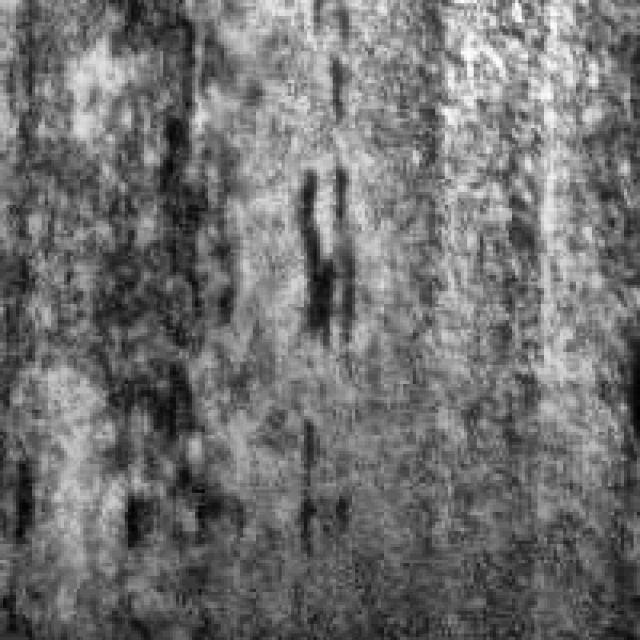Patches: (74, 12, 230, 570), (275, 144, 371, 368), (272, 403, 336, 570)
